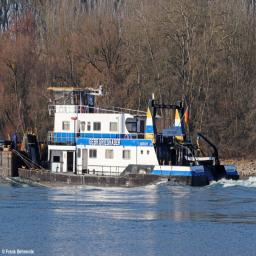tugboat: (16, 84, 242, 194)
